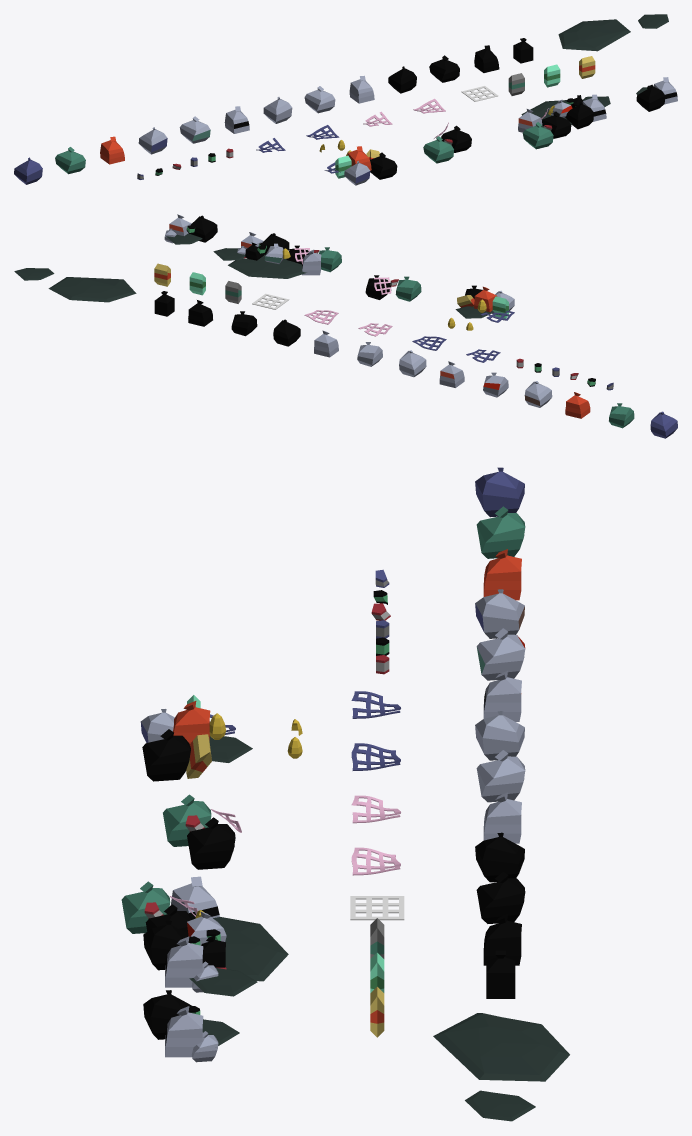
The model's file is Trash (1).glb.
3 views of the same model, one above another, from view 1: azimuth 30°, elevation 25°; view 2: azimuth 150°, elevation 25°; view 3: azimuth 270°, elevation 25° (orthographic). The views are drawn at different scales.
Parts seen in each view (by area): view 1: Cube.207, Cube.209, Cube.188, Cube.208, Cube.206, Cube.185, Cube.182, Cube.179, Cube.176, Cube.181, Cube.175, Cube.178 (+11 smaller); view 2: Cube.207, Cube.188, Cube.209, Cube.206, Cube.208, Cube.181, Cube.184, Cube.175, Cube.178, Cube.180, Cube.183, Cube.186 (+7 smaller); view 3: Cube.207, Cube.188, Cube.209, Cube.206, Cube.208, Cube.179, Cube.182, Cube.185, Cube.176, Cube.178, Cube.181, Cube.184 (+8 smaller).
Part boxes in pixels (x1,y1,x2,y2): Cube.207: (518, 94, 610, 149); Cube.209: (324, 146, 397, 185); Cube.188: (558, 19, 630, 51); Cube.208: (423, 122, 471, 163); Cube.206: (636, 77, 677, 111); Cube.185: (429, 55, 459, 82); Cube.182: (304, 86, 335, 113); Cube.179: (179, 116, 210, 143); Cube.176: (55, 147, 85, 174); Cube.181: (263, 97, 292, 123); Cube.175: (14, 157, 42, 184); Cube.178: (138, 127, 167, 154); Cube.207: (213, 232, 341, 278); Cube.188: (48, 277, 136, 302); Cube.209: (455, 285, 514, 322); Cube.206: (164, 214, 217, 244); Cube.208: (365, 275, 421, 301); Cube.181: (399, 350, 426, 377); Cube.184: (273, 319, 300, 346); Cube.175: (650, 411, 677, 438); Cube.178: (524, 381, 552, 407); Cube.180: (439, 361, 464, 387); Cube.183: (314, 330, 338, 357); Cube.186: (188, 300, 212, 326); Cube.207: (121, 876, 288, 996); Cube.188: (433, 1013, 569, 1081); Cube.209: (140, 695, 252, 781); Cube.206: (143, 990, 239, 1062); Cube.208: (163, 794, 241, 869); Cube.179: (476, 628, 525, 680); Cube.182: (476, 750, 525, 802); Cube.185: (476, 871, 525, 923); Cube.176: (476, 506, 525, 558); Cube.178: (475, 589, 524, 638); Cube.181: (475, 711, 524, 760); Cube.184: (475, 832, 524, 882).
Size of the model in its own units: 36.48 by 1.7 by 10.9.
